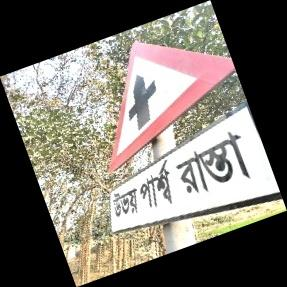Crossroad: (106, 40, 281, 235)
